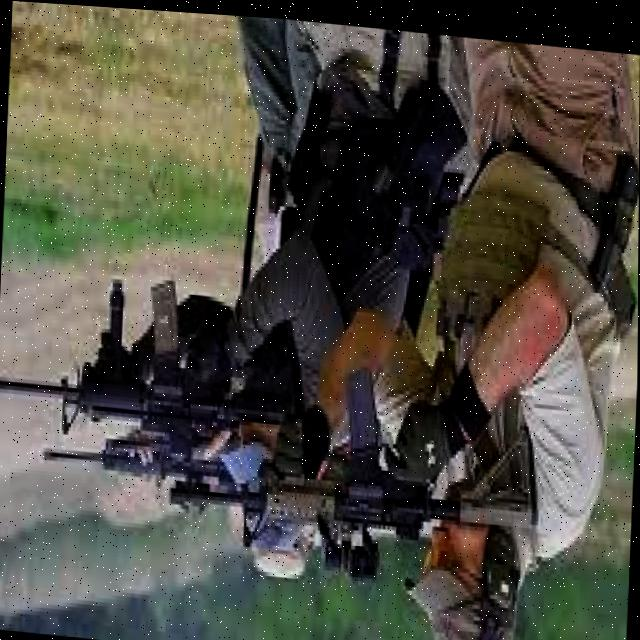firearm: (167, 344, 543, 589), (0, 266, 299, 452), (39, 413, 263, 519)
